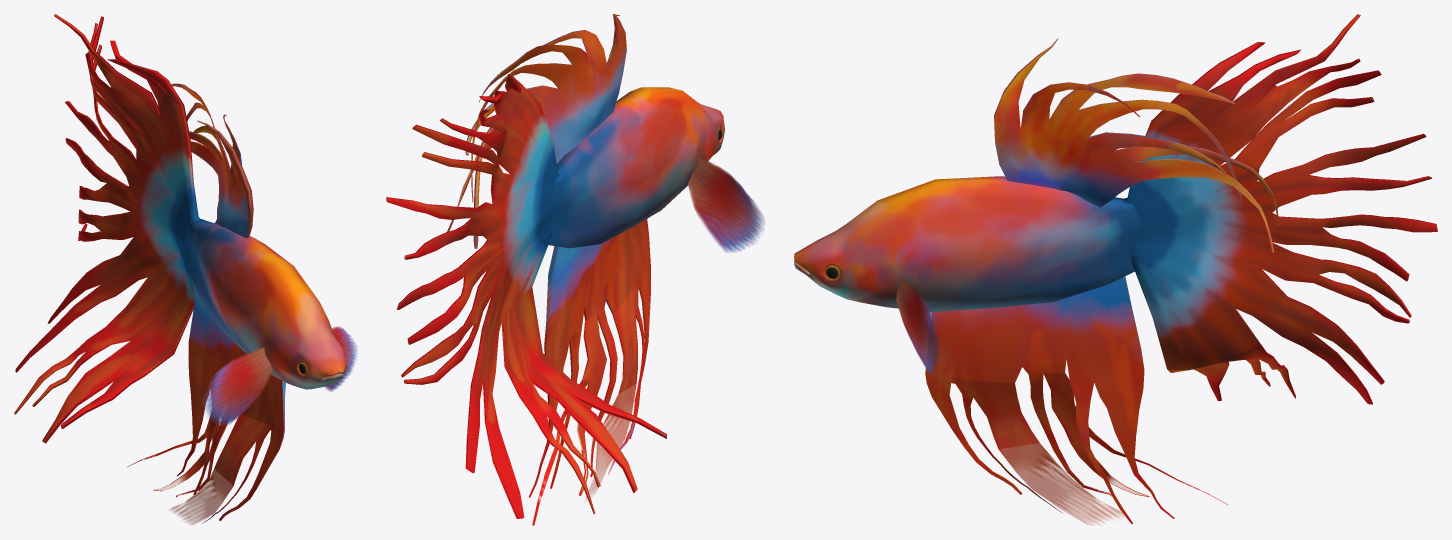
Rendered from peixe.glb.
The picture shows the model from 3 angles, left to right: view 1: azimuth 30°, elevation 25°; view 2: azimuth 150°, elevation 25°; view 3: azimuth 270°, elevation 25°; orthographic projection. The views are drawn at different scales.
Parts seen in each view (by area): view 1: BackFin, Body, BottomFin, UpperFin, Fin_l, Fin_r; view 2: BackFin, Body, BottomFin, UpperFin, Fin_l; view 3: BackFin, Body, BottomFin, UpperFin, Fin_r.
Boxes of the visible parts, <box> form: BackFin: <box>14,14,200,443</box>; Body: <box>184,218,346,389</box>; BottomFin: <box>127,285,285,524</box>; UpperFin: <box>171,83,253,237</box>; Fin_l: <box>203,347,272,425</box>; Fin_r: <box>324,326,357,391</box>; BackFin: <box>386,74,666,518</box>; Body: <box>543,87,724,248</box>; BottomFin: <box>529,219,650,525</box>; UpperFin: <box>447,14,626,248</box>; Fin_l: <box>688,156,764,252</box>; BackFin: <box>1122,14,1437,404</box>; Body: <box>794,176,1141,311</box>; BottomFin: <box>925,276,1227,525</box>; UpperFin: <box>994,38,1278,252</box>; Fin_r: <box>896,275,938,374</box>.
Bounding box in the file's own units: 263 × 551 × 638.
5 materials, 5 textured.
